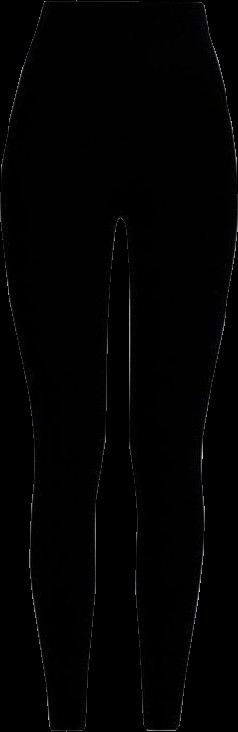Hemline: (140, 718, 180, 731), (46, 721, 89, 731)
Pantleg: (1, 0, 123, 730), (122, 0, 236, 731)
Waistline: (40, 0, 203, 10)
